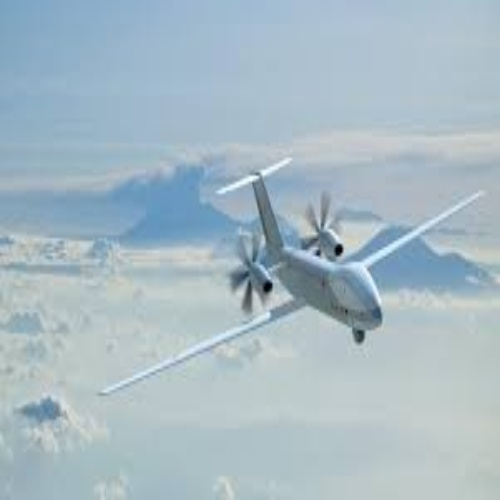uav618: (101, 161, 486, 391)
